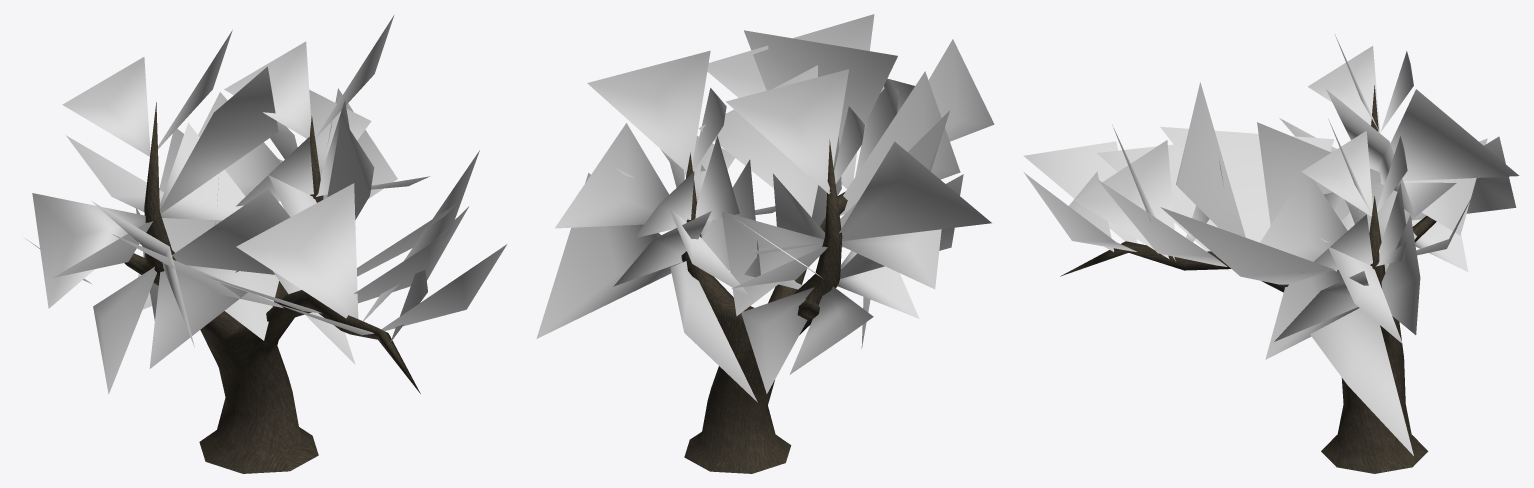
File: sakuraPine_LOD45.glb
The picture shows the model from 3 angles, left to right: view 1: azimuth 30°, elevation 25°; view 2: azimuth 150°, elevation 25°; view 3: azimuth 270°, elevation 25°; orthographic projection. The views are drawn at different scales.
Parts seen in each view (by area): view 1: sakura_leaves.jpg__, tree_zen.jpg__; view 2: sakura_leaves.jpg__, tree_zen.jpg__; view 3: sakura_leaves.jpg__, tree_zen.jpg__.
Boxes of the visible parts, bbox=[...] form: sakura_leaves.jpg__: bbox=[25, 15, 507, 394]; tree_zen.jpg__: bbox=[124, 102, 420, 473]; sakura_leaves.jpg__: bbox=[536, 14, 994, 402]; tree_zen.jpg__: bbox=[681, 139, 847, 473]; sakura_leaves.jpg__: bbox=[1023, 35, 1519, 455]; tree_zen.jpg__: bbox=[1060, 85, 1436, 473].
Size of the model in its own units: 16.3 by 14.95 by 17.85.
2 materials, 1 textured.
